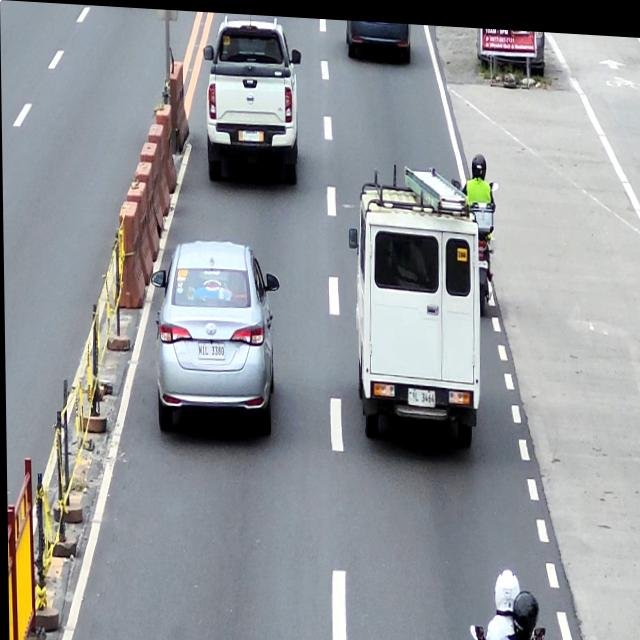Car: (348, 176, 481, 446), (150, 234, 281, 438), (202, 15, 302, 183)
License-Plate: (196, 339, 224, 359), (406, 384, 434, 403), (242, 127, 259, 140)
